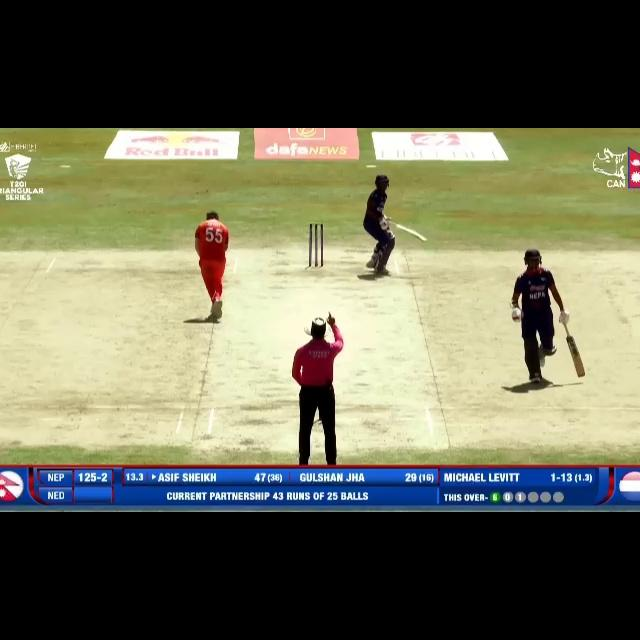umpire: (276, 308, 353, 469)
